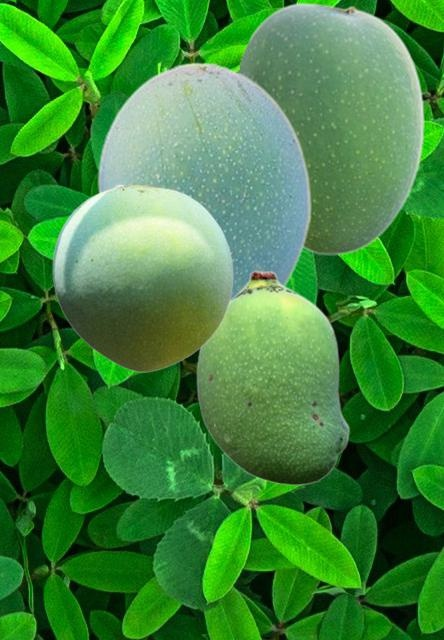green_mango: (96, 61, 311, 296), (236, 2, 424, 254), (52, 183, 232, 371), (196, 270, 349, 485)
